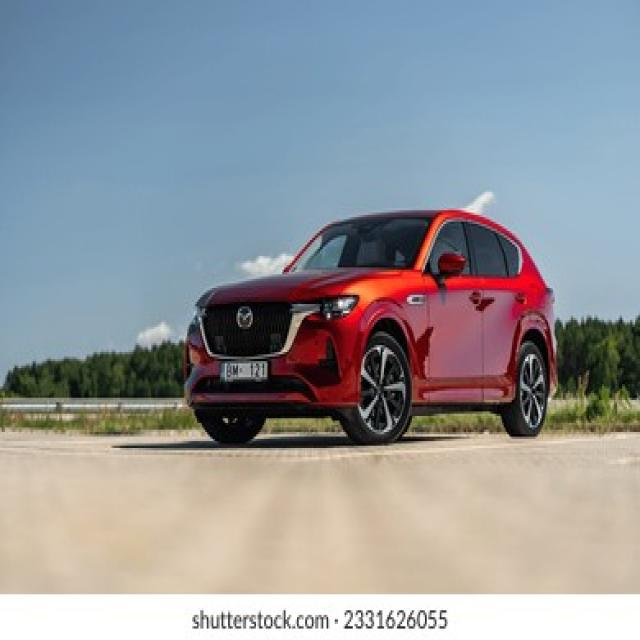mazda: (235, 305, 252, 329)
